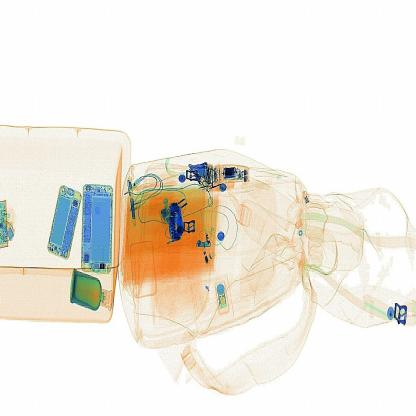scissors: (169, 188, 193, 256)
